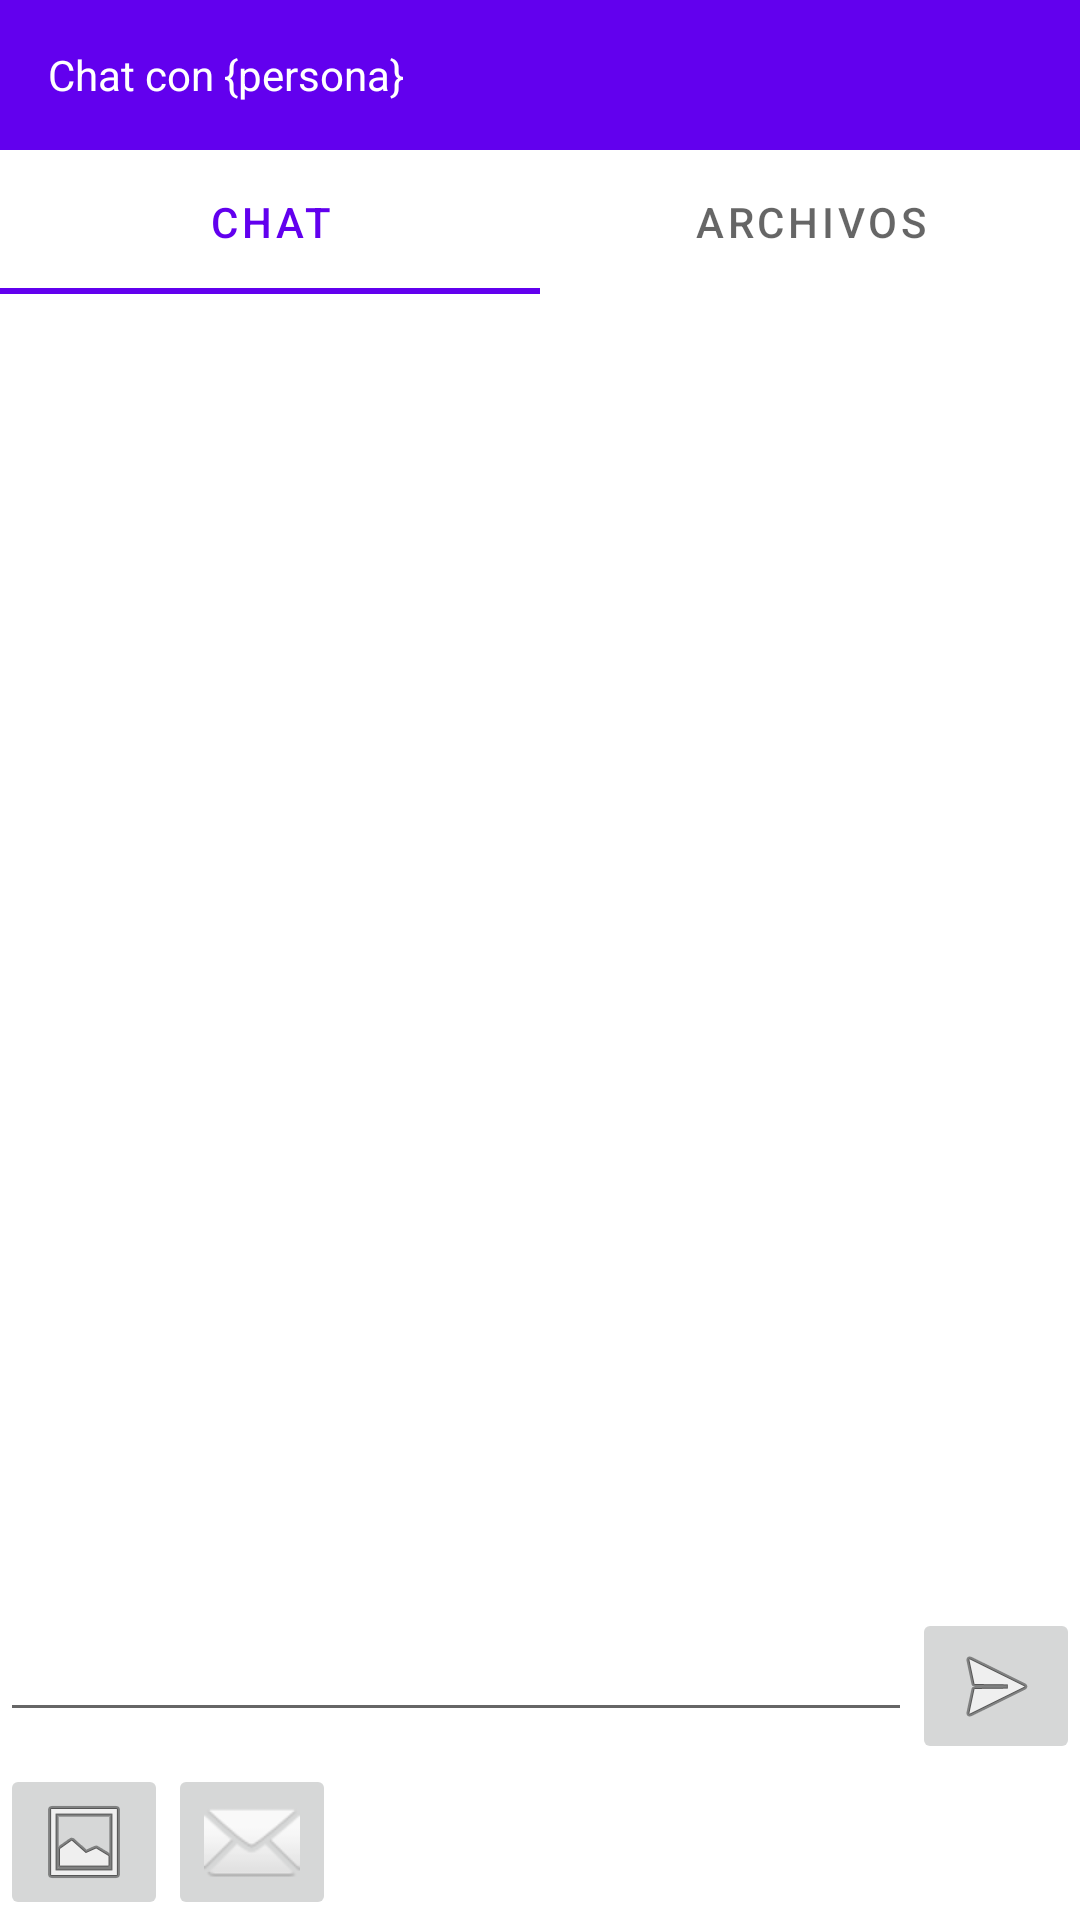

Screen size 1080*1920. Icon name, then its box in pixels as detection(x1, y1, x2, y2):
email: detection(180, 1782, 324, 1902)
gallery: detection(12, 1782, 156, 1902)
send: detection(924, 1626, 1068, 1746)
